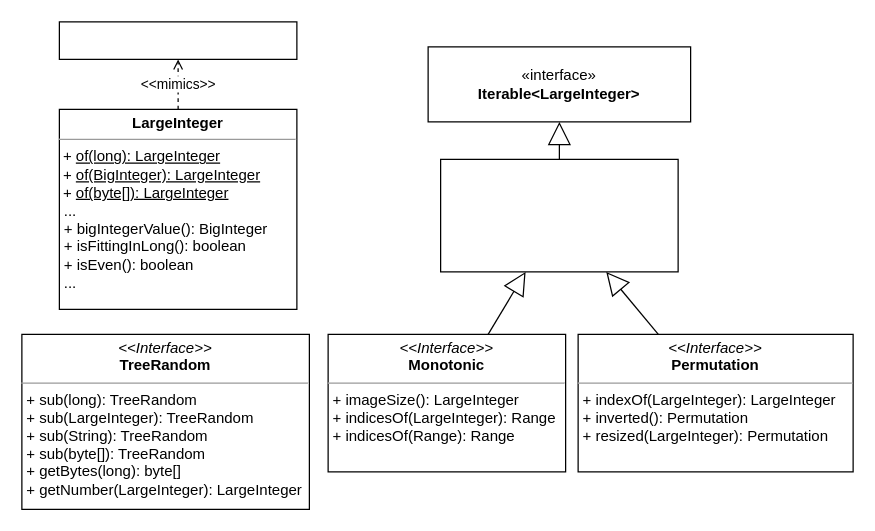
Image size: 875x531. Some labels were removed from this diagram. The centre of each missing label's shape, as x and y in pixels:
<<Interface>> Function + size(): LargeInteger + at(LargeInteger): LargeInteger: the point at 558,215
BigInteger: the point at 177,40
